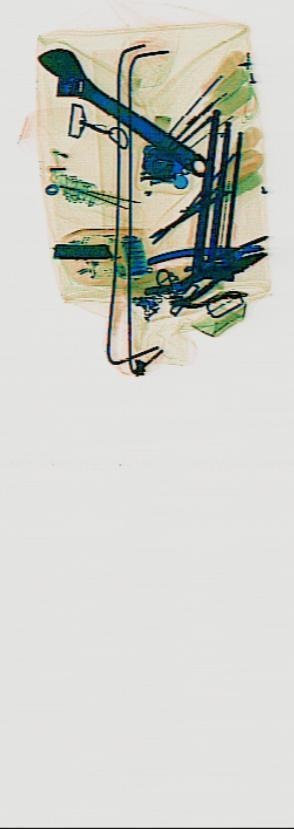Pliers: (141, 228, 263, 298)
Wrench: (33, 28, 213, 197)
